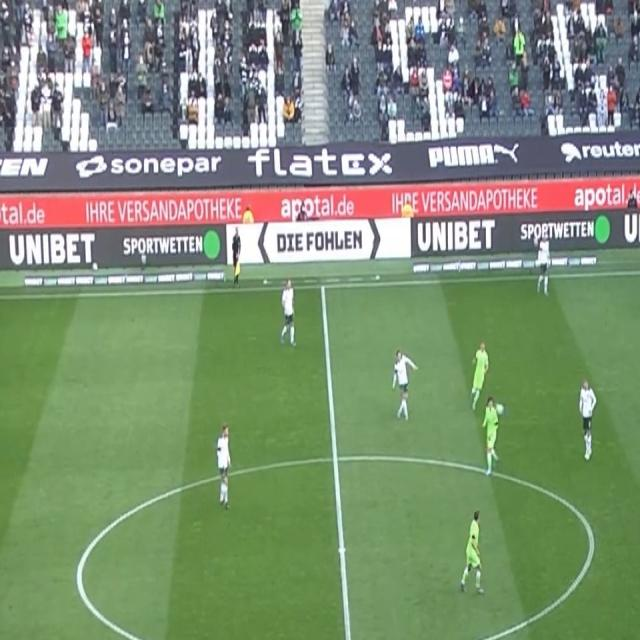ball: (495, 402, 505, 417)
